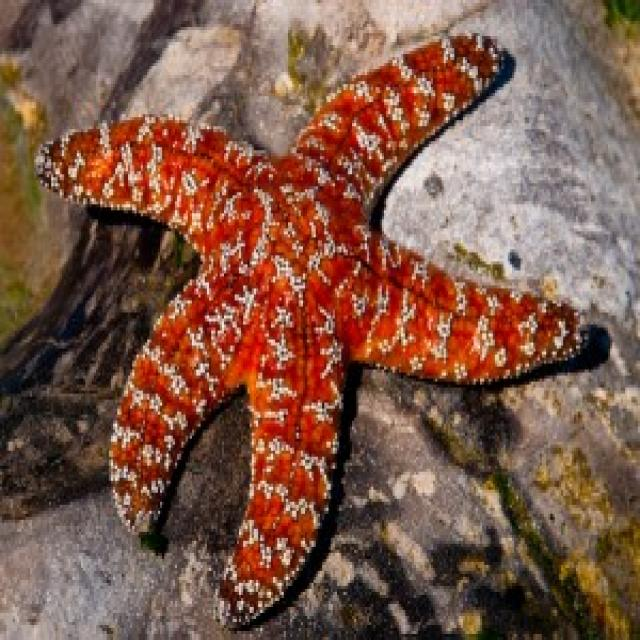Starfish: (34, 12, 587, 623)
